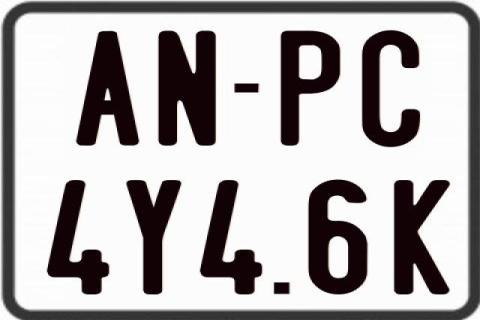0: (45, 179, 113, 295), (197, 179, 259, 299), (306, 180, 369, 298)
A: (73, 32, 138, 150)
C: (361, 28, 419, 145)
K: (391, 179, 452, 296)
N: (158, 29, 220, 148)
P: (279, 29, 343, 147)
Y: (125, 179, 185, 293)
